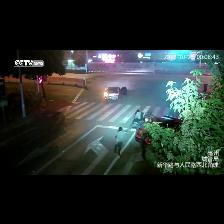person: (114, 128, 124, 158), (141, 137, 151, 160)
